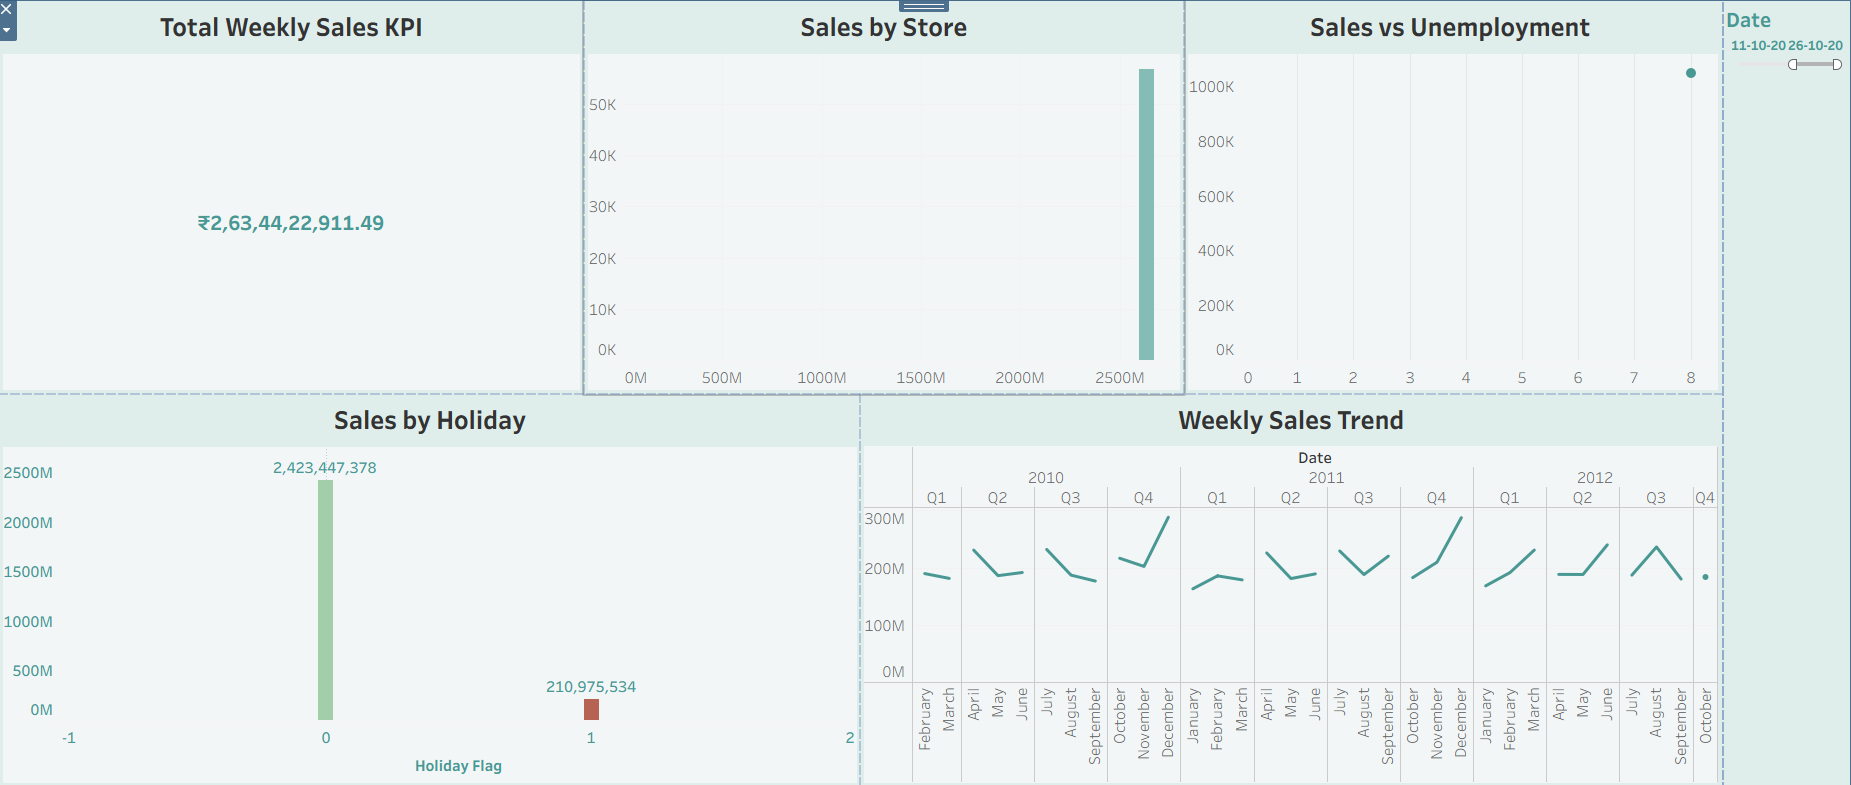

The page's visual inventory and layout, read from the dashboard file:
{"tool":"tableau","page":{"name":"Walmart Sales Performance Overview","canvas":[1000,1000],"units":"permille","ordinal":0},"visuals":[{"type":"worksheet","title":"Total Weekly Sales KPI","mark":"Automatic","box":[4.3,10,313.1,490]},{"type":"worksheet","title":"Sales by Store","mark":"Bar","rows":["Store"],"cols":["Weekly_Sales"],"box":[317.4,10,321.6,490]},{"type":"worksheet","title":"Sales vs Unemployment ","mark":"Circle","rows":["Weekly_Sales"],"cols":["Unemployment"],"box":[639,10,288.2,490]},{"type":"filter","title":"Total Weekly Sales KPI","param":"[federated.1ae686v1i3ukxz16hdi9z0iizp9r].[none:Date:qk]","box":[927.2,10,68.6,98.5]},{"type":"worksheet","title":"Sales by Holiday","mark":"Bar","rows":["Weekly_Sales"],"cols":["Holiday_Flag"],"box":[4.3,500,461.4,490]},{"type":"worksheet","title":"Weekly Sales Trend","mark":"Line","rows":["Weekly_Sales"],"cols":["Date","Date","Date"],"box":[465.7,500,461.4,490]}]}

Visuals, with their boxes on the dashboard's canvas, which has no fixed pixel size, in thousandths of its width and height (x1, y1, x2, y2). These are canvas units, not pixel positions in the 1851x785 screenshot, which may show the page scaled, cropped or inside an application window:
"Total Weekly Sales KPI" worksheet: locate(4, 10, 317, 500)
"Sales by Store" worksheet (Bar marks): locate(317, 10, 639, 500)
"Sales vs Unemployment " worksheet (Circle marks): locate(639, 10, 927, 500)
"Total Weekly Sales KPI" filter: locate(927, 10, 996, 108)
"Sales by Holiday" worksheet (Bar marks): locate(4, 500, 466, 990)
"Weekly Sales Trend" worksheet (Line marks): locate(466, 500, 927, 990)
